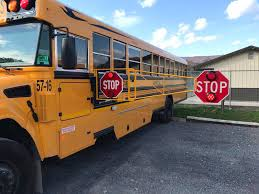SS: (194, 70, 228, 104), (99, 71, 124, 99)
